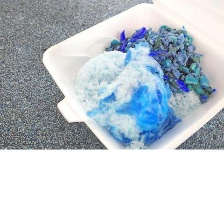foam_box: (37, 0, 223, 149)
